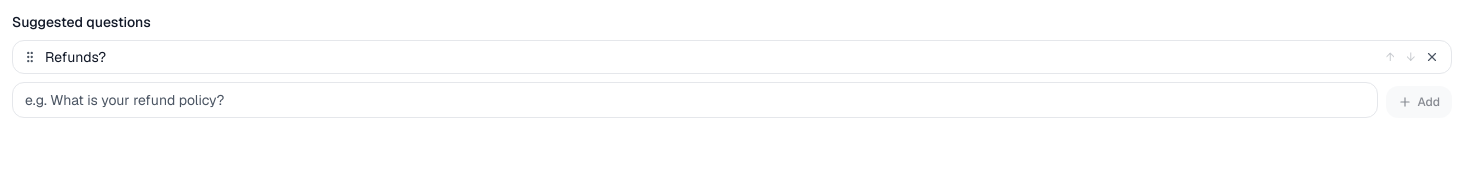
Test: SuggestedQuestionsEditor › rejects a duplicate (case-insensitive)
This screenshot has width=1464, height=172.
Type "refunds?" into the field named "New suggested question" at x=695, y=100, box [12, 82, 1378, 118]
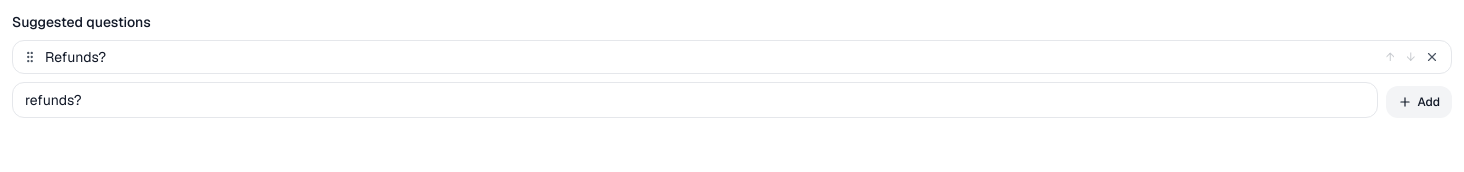
Click the button "Add" at x=1419, y=102, box [1386, 86, 1452, 118]
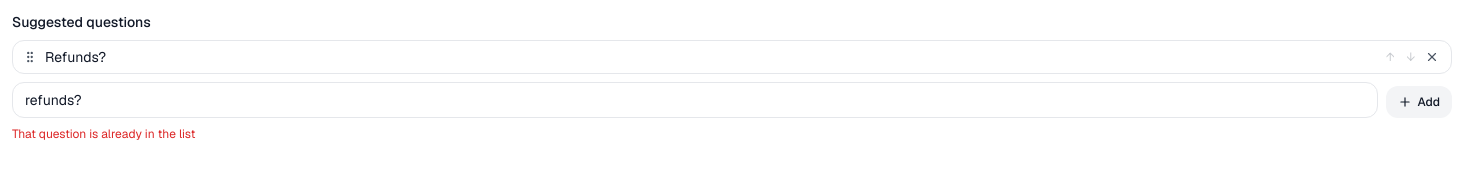
Check: the text "That question is already in the list" is shown, box [12, 126, 195, 142]
